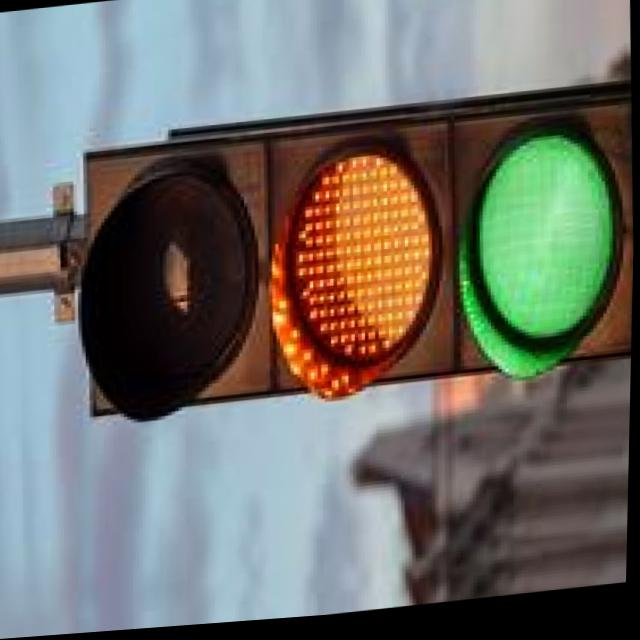green_light: (444, 85, 616, 406)
yellow_light: (255, 97, 452, 428)
